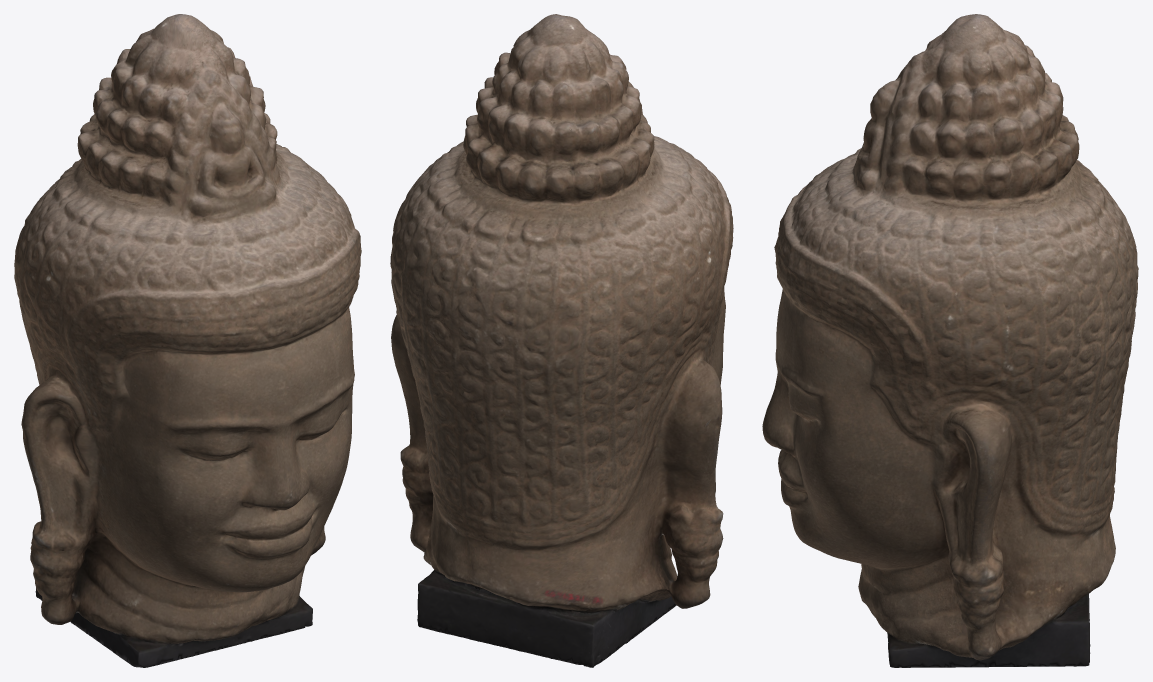
File: preview.glb
The picture shows the model from 3 angles, left to right: view 1: azimuth 30°, elevation 25°; view 2: azimuth 150°, elevation 25°; view 3: azimuth 270°, elevation 25°; orthographic projection. The views are drawn at different scales.
Parts seen in each view (by area): view 1: Object_2; view 2: Object_2; view 3: Object_2.
Part boxes in pixels (left/top/right/bottom): Object_2: left=14, top=14, right=361, bottom=667; Object_2: left=390, top=14, right=733, bottom=667; Object_2: left=762, top=14, right=1138, bottom=667.
Bounding box in the file's own units: 0.2288 × 0.4041 × 0.2265.
1 material, 1 textured.
